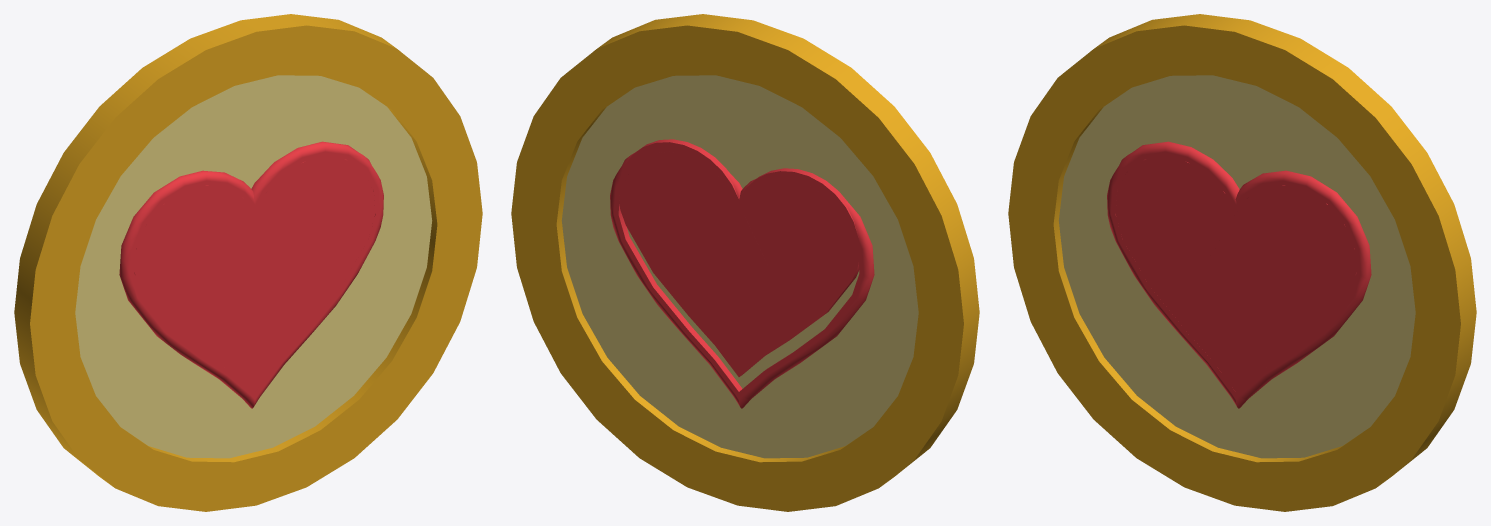
Rendered from CoinHeart.fbx.
3 views of the same model, side by side, from view 1: azimuth 30°, elevation 25°; view 2: azimuth 150°, elevation 25°; view 3: azimuth 330°, elevation 25° (orthographic).
Visible parts, largest first — view 1: Sweep [1587419]; view 2: Sweep [1587419]; view 3: Sweep [1587419].
Part boxes in pixels (x1,y1,x2,y2): Sweep [1587419]: (14,14,482,511); Sweep [1587419]: (511,14,979,511); Sweep [1587419]: (1008,14,1476,511).
Size of the model in its own units: 50 by 50 by 3.
